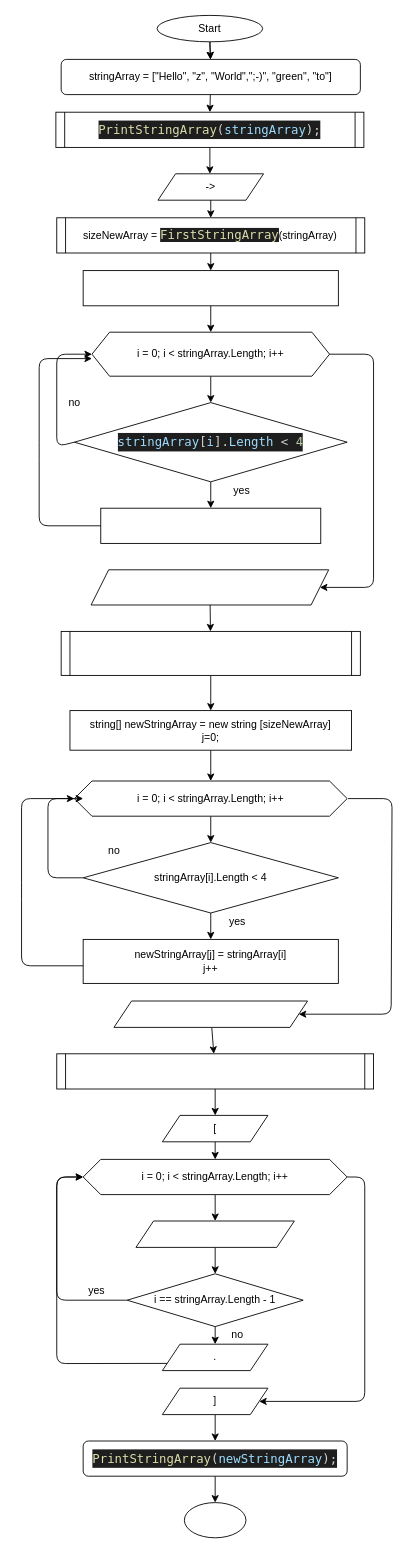
Some shapes in this 414 by 1553 pixel diagram are drawn without their labels. Here are the shapes that lost their labels. From the top down, the box of each, then its label:
(82, 270, 338, 306): numberOfStrings = 0;
(100, 507, 321, 543): numberOfStrings ++;
(90, 569, 329, 605): return numberOfStrings
(60, 631, 360, 675): SecondStringArray(stringArray, sizeNewArray)
(113, 1000, 308, 1027): return newStringArray
(56, 1053, 374, 1089): PrintStringArray(stringArray)
(135, 1220, 294, 1247): "stringArray[i]"
(183, 1502, 246, 1538): end
